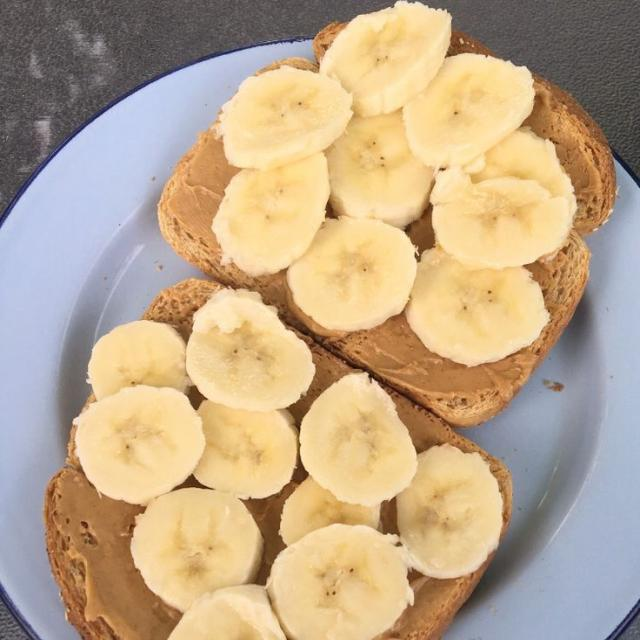banana slice: (267, 524, 413, 639), (406, 249, 548, 366), (132, 488, 262, 611), (74, 385, 205, 504), (300, 374, 416, 506), (187, 290, 314, 410), (320, 0, 451, 116), (287, 217, 416, 331), (404, 54, 534, 167), (213, 153, 329, 276), (431, 168, 573, 268), (397, 445, 502, 578), (218, 66, 352, 169), (327, 112, 433, 227), (194, 401, 297, 498), (470, 127, 576, 215), (88, 320, 189, 399), (280, 477, 379, 545), (169, 585, 286, 639)
sliced bread: (158, 73, 615, 427), (43, 444, 178, 639), (391, 392, 511, 535), (390, 556, 491, 639), (246, 483, 295, 581), (143, 279, 223, 337), (305, 338, 348, 399)
